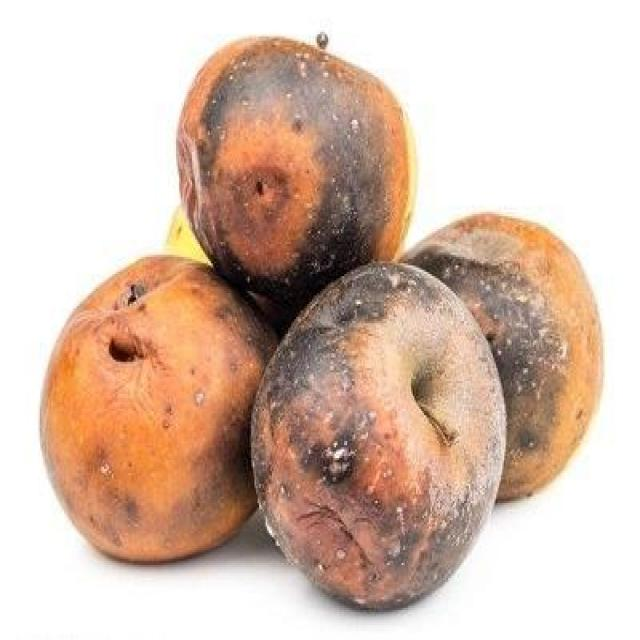organic: (38, 36, 605, 614)
